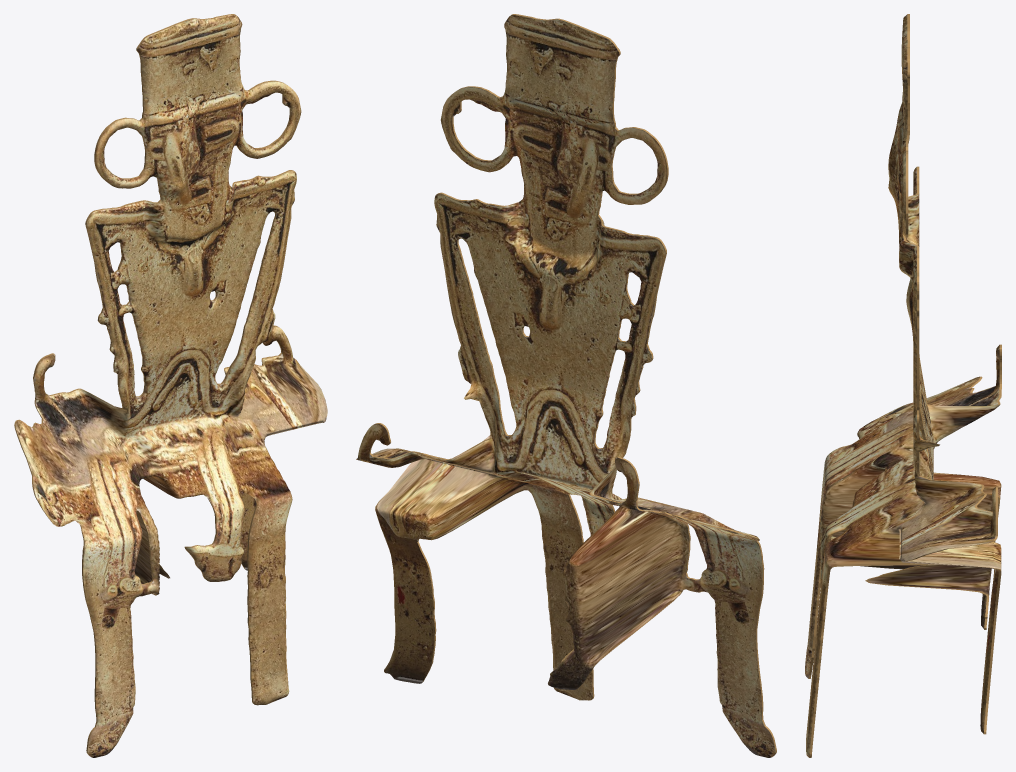
File: figura_masculina_taburete.glb
3 renders of one model, left to right at view 1: azimuth 30°, elevation 25°; view 2: azimuth 150°, elevation 25°; view 3: azimuth 270°, elevation 25°, orthographic. The views are drawn at different scales.
Parts seen in each view (by area): view 1: figura_masculina_taburete; view 2: figura_masculina_taburete; view 3: figura_masculina_taburete.
Boxes of the visible parts, x1,y1,x2,y2 form: figura_masculina_taburete: [14, 14, 327, 757]; figura_masculina_taburete: [356, 14, 776, 757]; figura_masculina_taburete: [805, 14, 1001, 757].
Size of the model in its own units: 4.83 by 10.06 by 2.5.
Materials: 1 (1 with a texture image).
